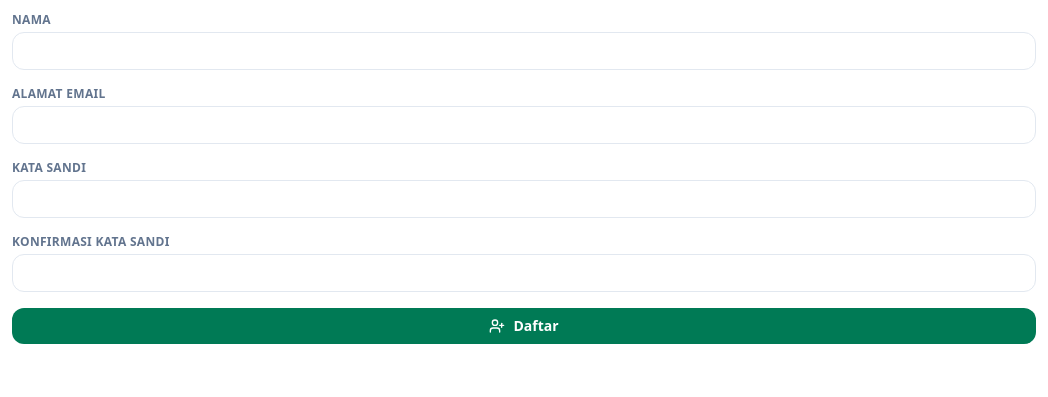
it: RegisterPage › validasi: password kurang dari 6 karakter
In the field with id "name": (524, 51) 12,32 -> 1036,70, type "A"
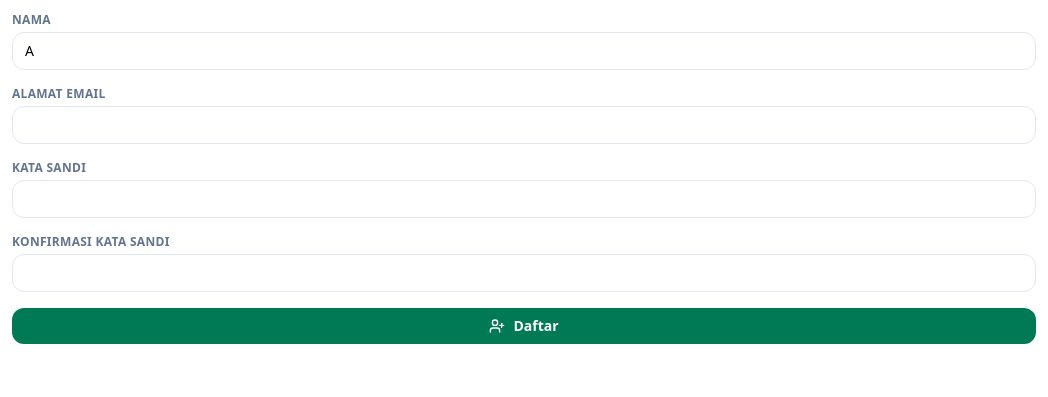
In the field with id "email": (524, 125) 12,106 -> 1036,144, type "a@b.c"
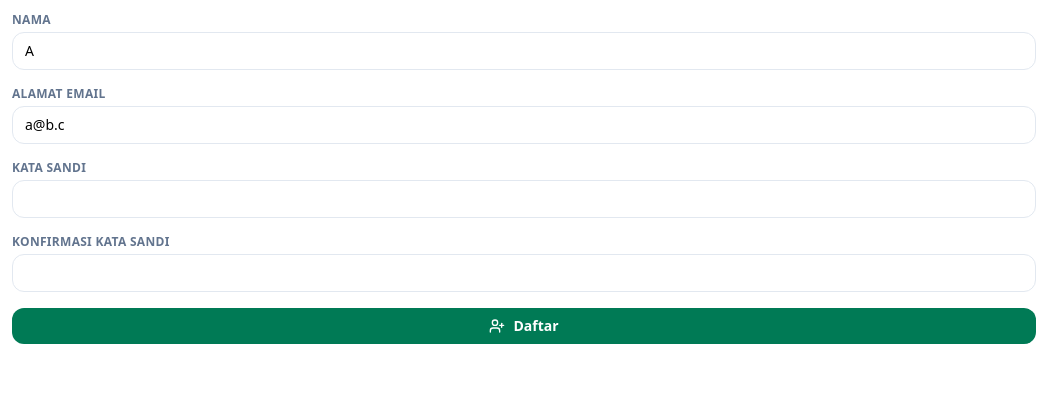
In the password field labelled "Kata Sandi": (524, 199) 12,180 -> 1036,218, type "123"
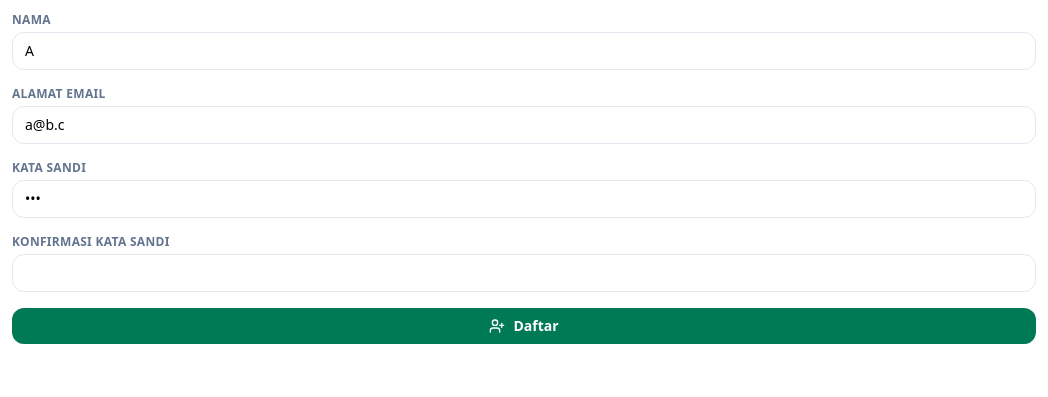
In the password field with id "confirm": (524, 273) 12,254 -> 1036,292, type "123"
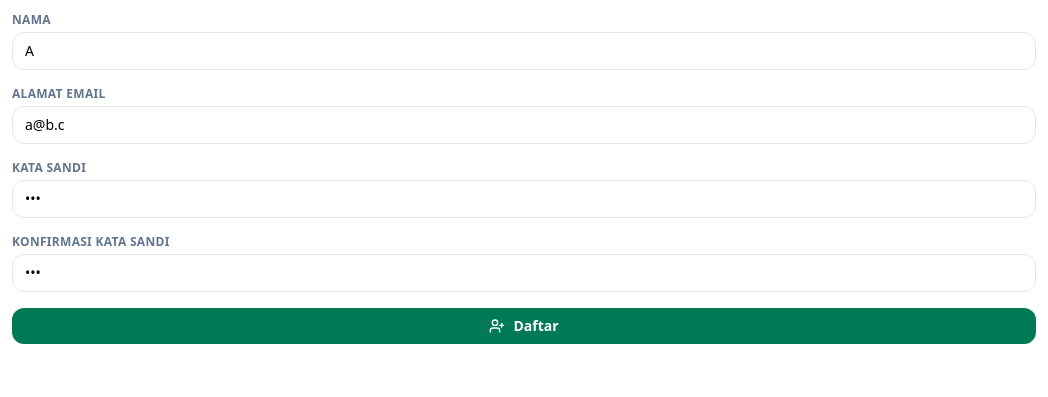
Submit the form
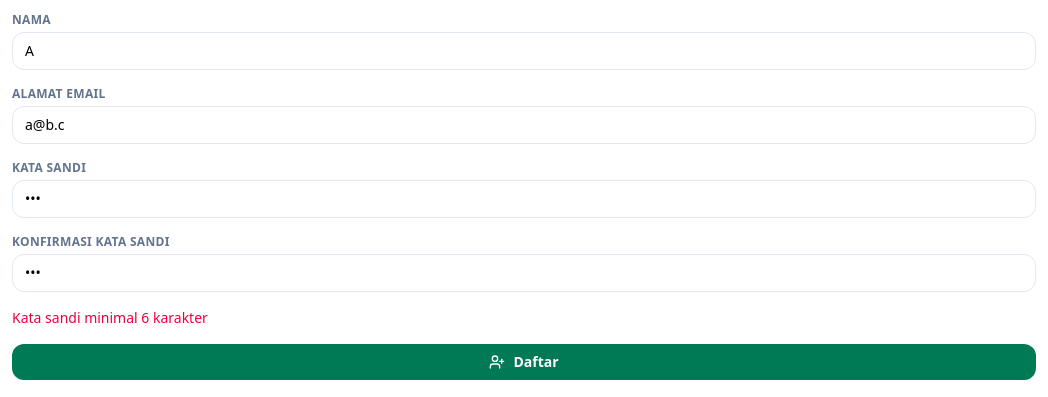
Result: the form shows "Kata sandi minimal 6 karakter" at 12,308 -> 208,327
